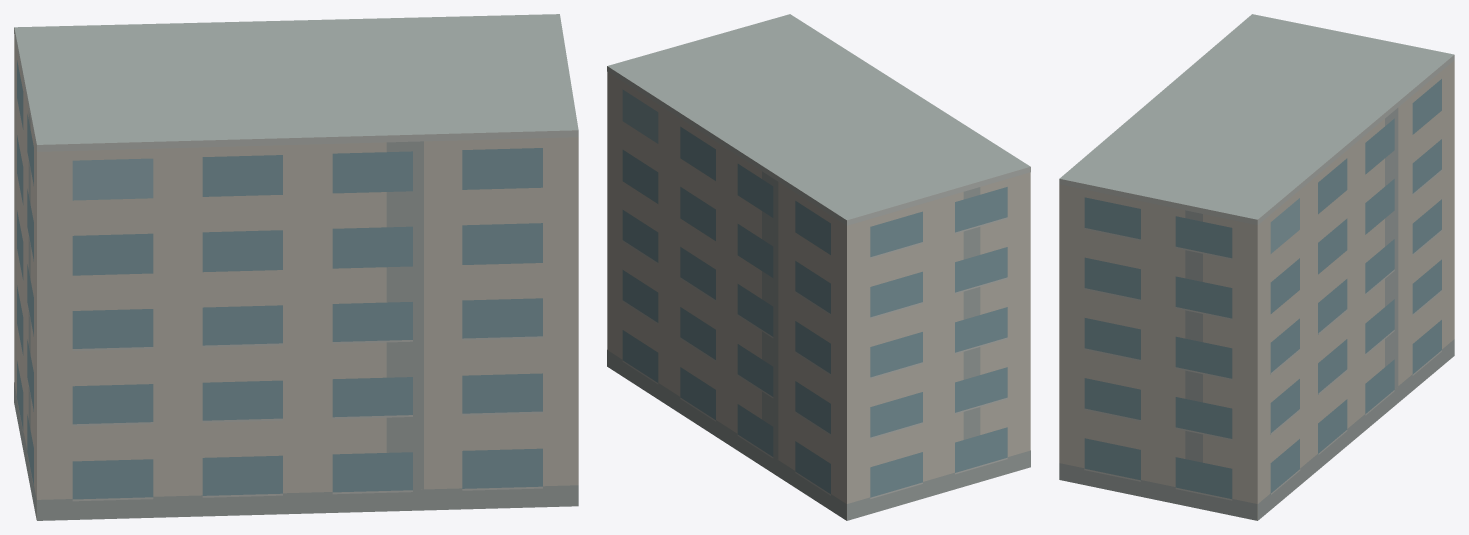
Rendered from survey-upis-32962656.glb.
3 views of the same model, side by side, from view 1: azimuth 30°, elevation 25°; view 2: azimuth 150°, elevation 25°; view 3: azimuth 270°, elevation 25° (orthographic). The views are drawn at different scales.
Visible parts, largest first — view 1: survey-upis-32962656.tmp; view 2: survey-upis-32962656.tmp; view 3: survey-upis-32962656.tmp.
Part boxes in pixels (box(x1,y1,x2,y2)): survey-upis-32962656.tmp: box(14, 14, 578, 520); survey-upis-32962656.tmp: box(607, 14, 1030, 520); survey-upis-32962656.tmp: box(1059, 14, 1454, 520).
Bounding box in the file's own units: 19.43 × 13.25 × 15.77.
